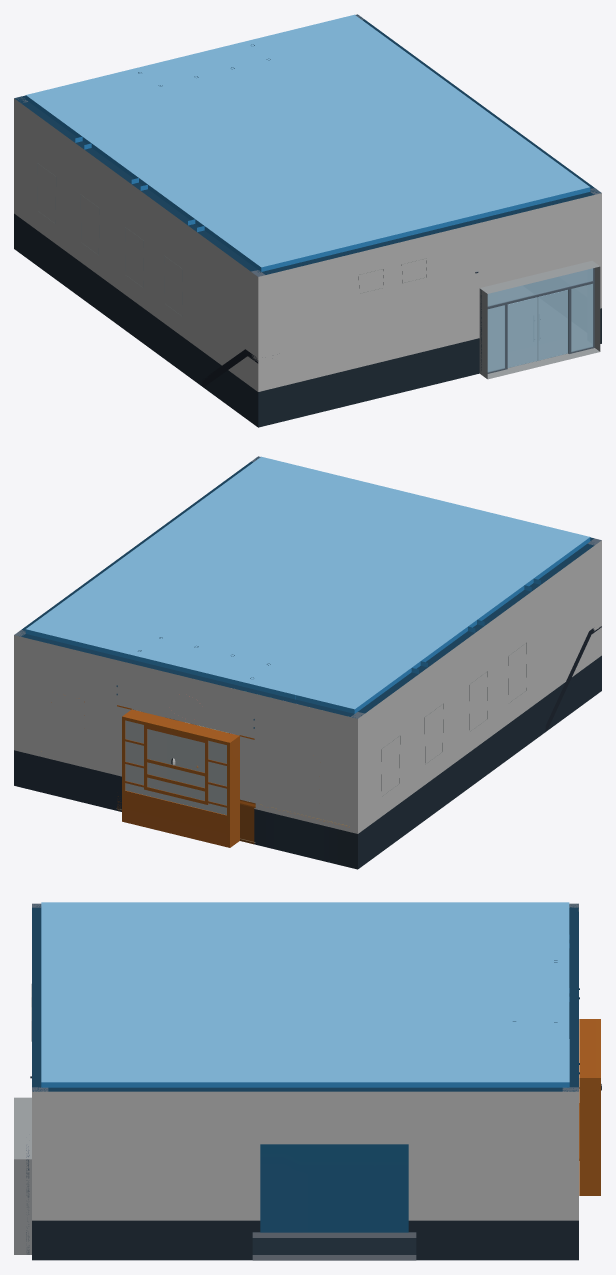
File: BarDemo.fbx
3 renders of one model, top to bottom at view 1: azimuth 30°, elevation 25°; view 2: azimuth 150°, elevation 25°; view 3: azimuth 270°, elevation 25°, orthographic. The views are drawn at different scales.
Parts seen in each view (by area): view 1: Structure, Door1; view 2: Structure, BarCounter_main; view 3: Structure, Stage1, BarCounter_main.
Part boxes in pixels (bbox=[...]): Structure: bbox=[14, 14, 601, 427]; Door1: bbox=[480, 268, 594, 374]; Structure: bbox=[14, 456, 601, 869]; BarCounter_main: bbox=[116, 637, 349, 847]; Structure: bbox=[14, 902, 578, 1260]; Stage1: bbox=[252, 1144, 416, 1260]; BarCounter_main: bbox=[513, 960, 600, 1195].
Size of the model in its own units: 1166 by 505 by 1539.
